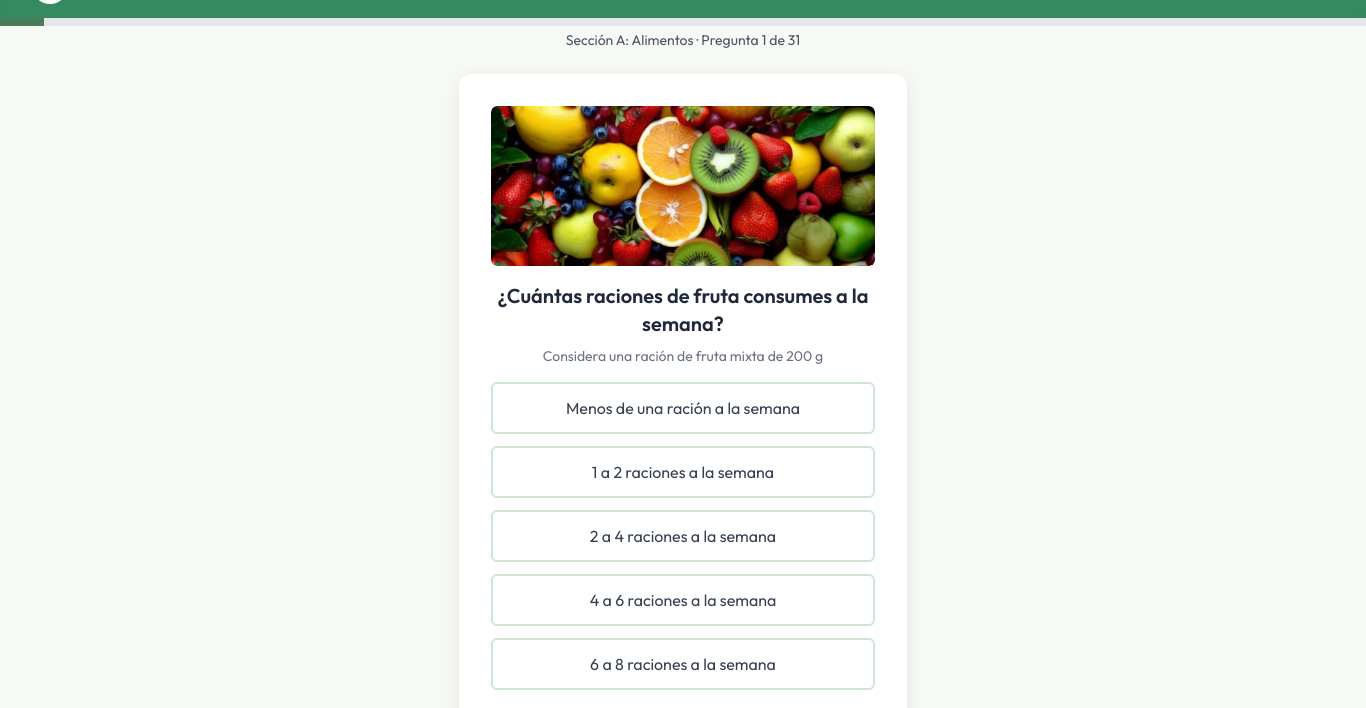
Scenario: Calculadora - persistencia en localStorage › modal de confirmacion de Borrar respuestas › Sí, borrar respuestas limpia el almacenamiento y vuelve a la pregunta 1
The width and height of the screenshot is (1366, 708).
Click the button "1 a 2 raciones a la semana" at (683, 472), box 491,446 -> 875,498
(page scrolled)
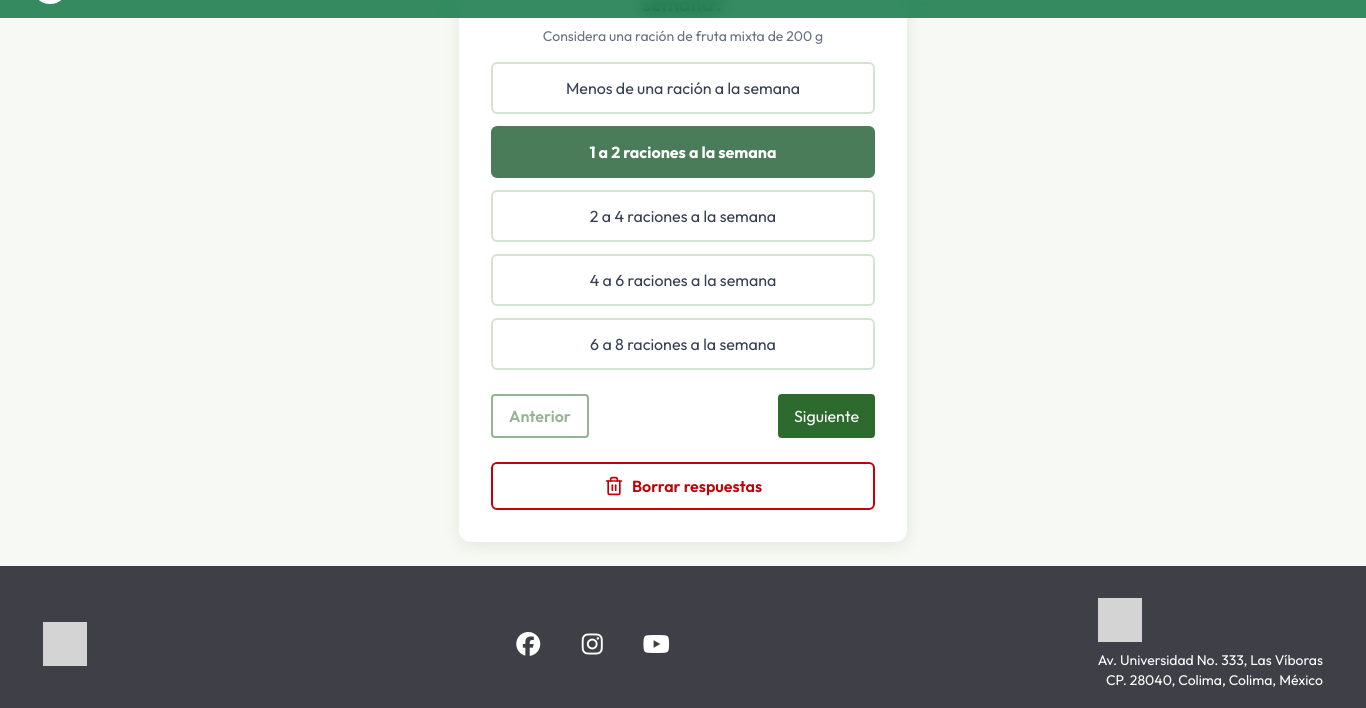
Click the button "Siguiente" at (826, 416), box 778,394 -> 875,438
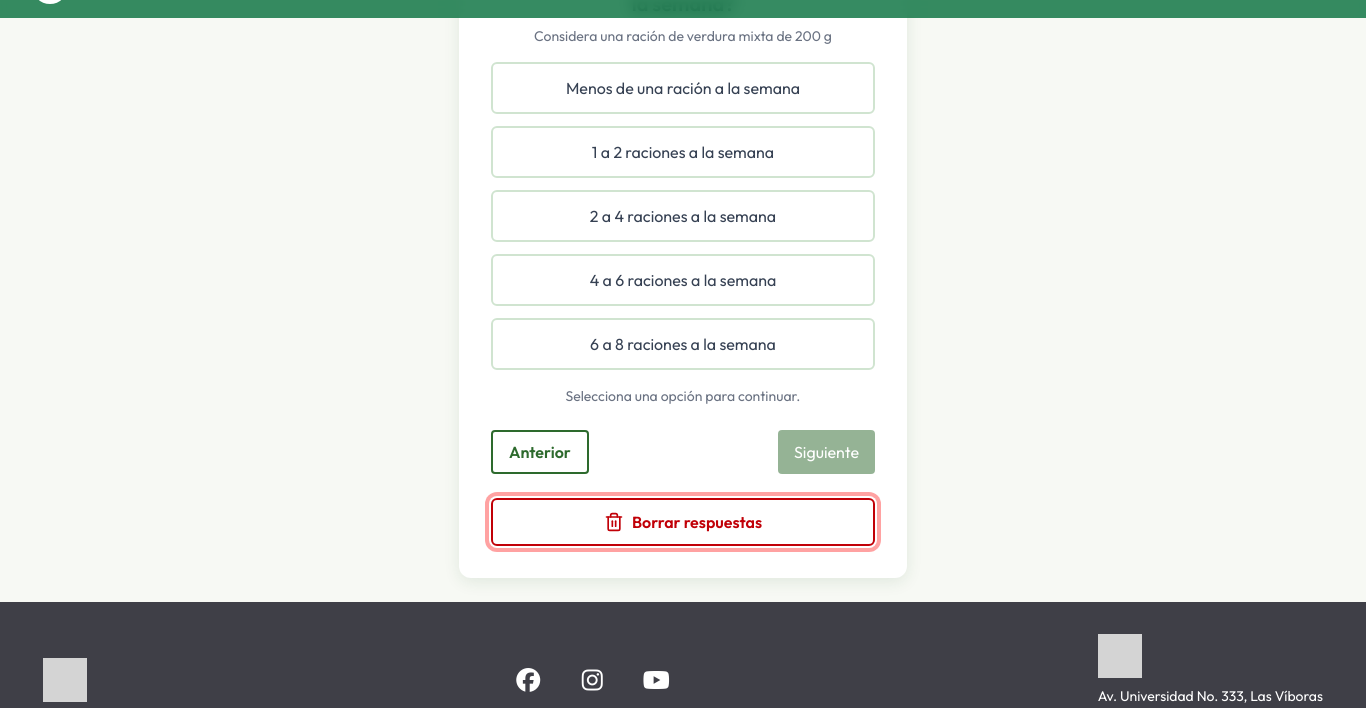
Click the button "Borrar respuestas" at (683, 522), box 491,498 -> 875,546
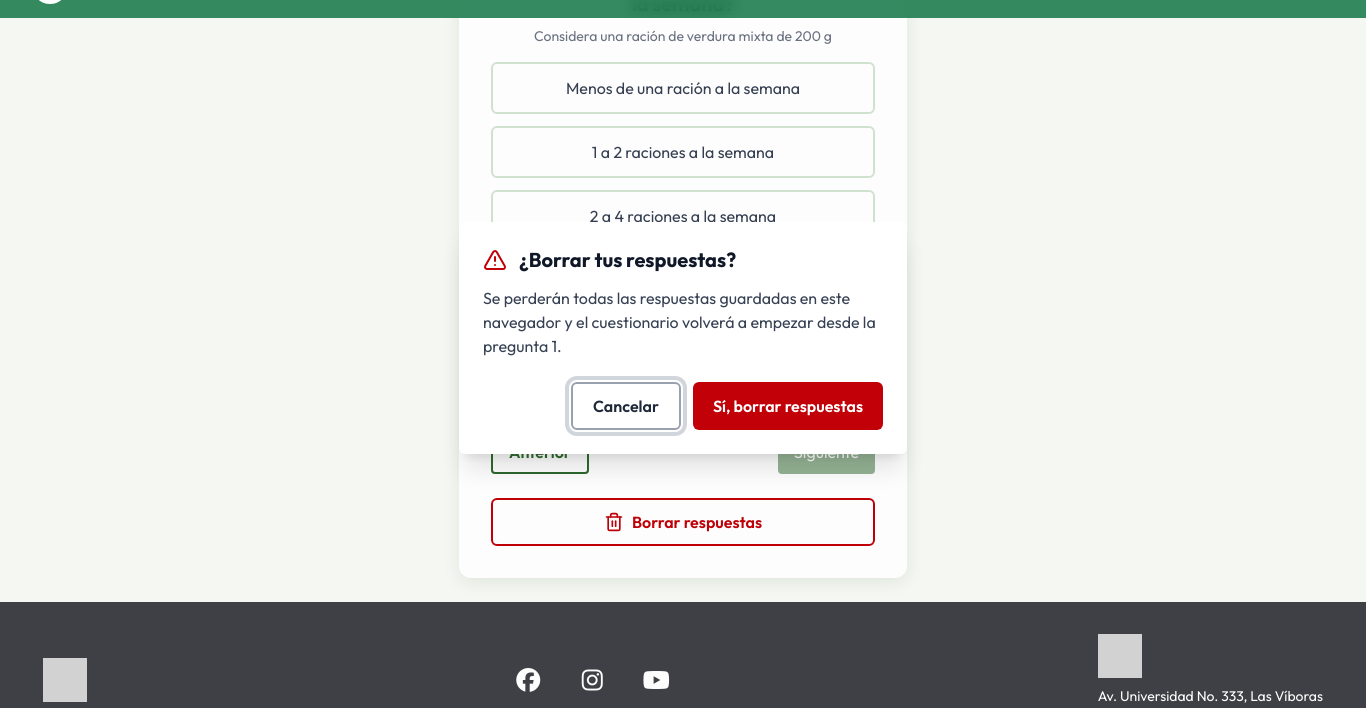
Click the button "Sí, borrar respuestas" at (788, 406), box 693,382 -> 883,430
(page scrolled)
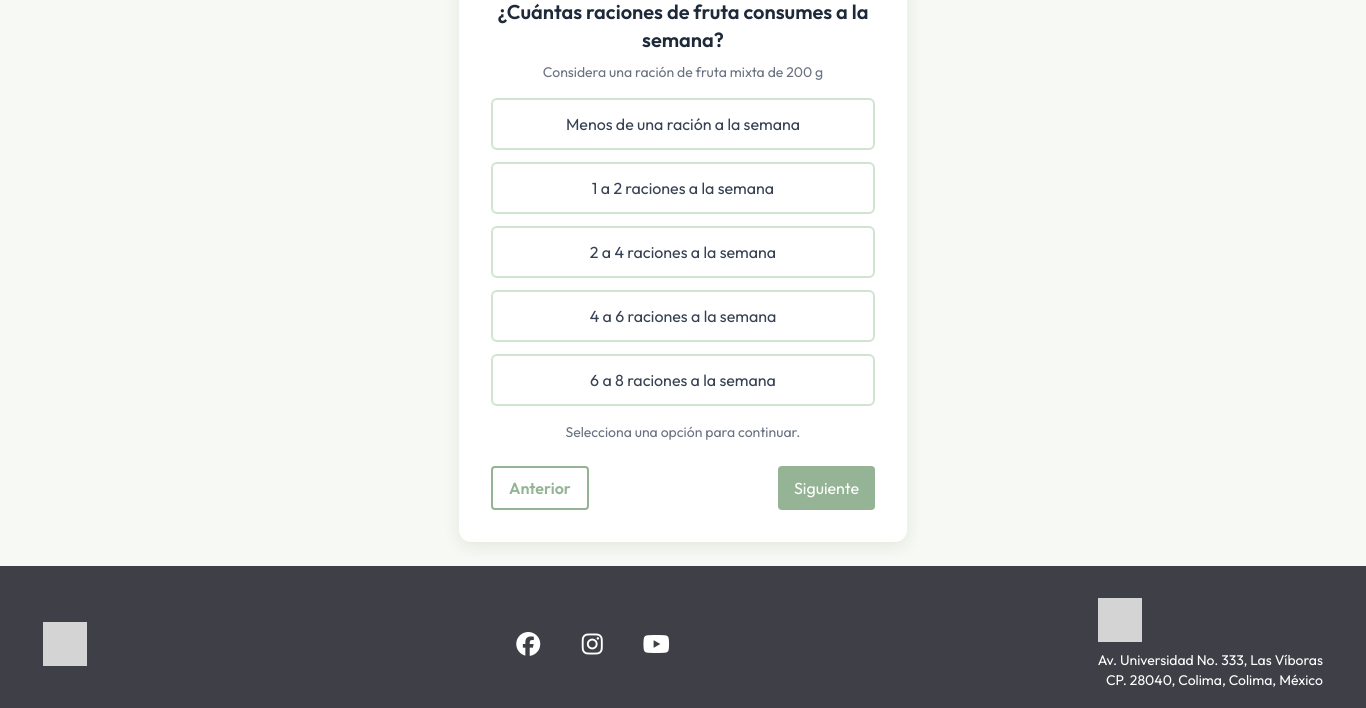
Result: the button "Siguiente" is disabled at 778,466 -> 875,510
Result: the dialog is gone
Result: the button "Borrar respuestas" is gone
